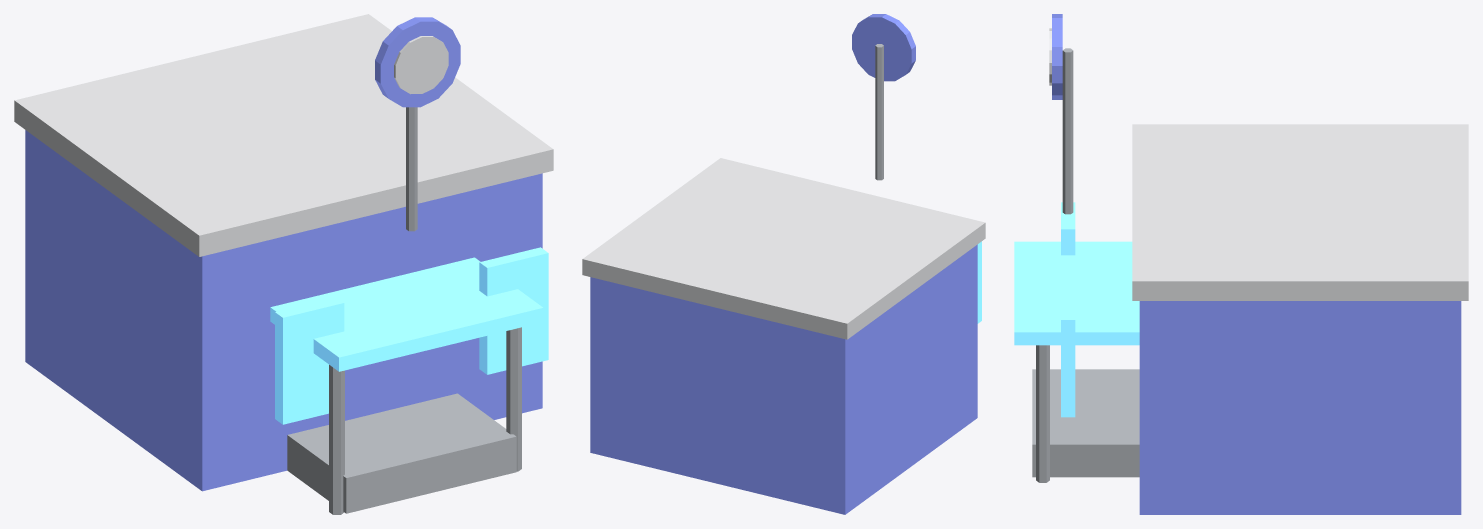
File: metro.glb
3 views of the same model, side by side, from view 1: azimuth 30°, elevation 25°; view 2: azimuth 150°, elevation 25°; view 3: azimuth 270°, elevation 25° (orthographic). The views are drawn at different scales.
Visible parts, largest first — view 1: metro; view 2: metro; view 3: metro.
Boxes of the visible parts, x1,y1,x2,y2 form: metro: (14, 14, 553, 514); metro: (582, 14, 985, 514); metro: (1014, 14, 1468, 514).
Bounding box in the file's own units: 1.04 × 1.3 × 1.27.
